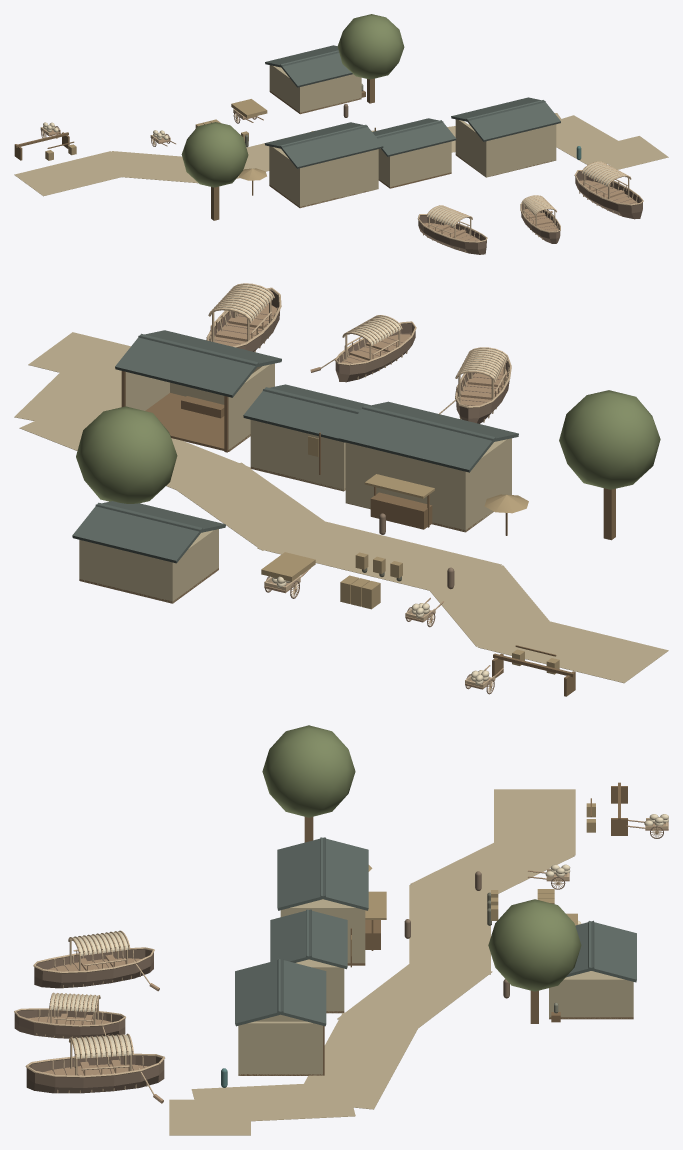
Rendered from d-graybox.glb.
3 views of the same model, one above another, from view 1: azimuth 30°, elevation 25°; view 2: azimuth 150°, elevation 25°; view 3: azimuth 270°, elevation 25° (orthographic). The views are drawn at different scales.
Visible parts, largest first — view 1: S06 crown (×2), s05_house_b/walls, s05_house_b/roof (×2), s04_open_house/roof (×2), ferry_body_wood_light (×3), D road 7, ferry_body_wood_dark (×3), s06_low_house/walls, s04_open_house/rear, s05_house_a/walls, s06_low_house/roof (×2), s05_house_a/roof (×2) (+8 smaller); view 2: S06 crown (×2), s05_house_b/walls, D road 5, s05_house_b/roof (×2), s04_open_house/roof (×2), D road 6, D road 7, D road 4, s06_low_house/walls, s06_low_house/roof (×2), ferry_body_wood_light (×3), s05_house_a/walls (+16 smaller); view 3: S06 crown (×2), ferry_body_wood_dark (×3), D road 5, D road 3, s05_house_b/roof (×2), D road 2, D road 6, s04_open_house/roof (×2), D road 4, D road 7, ferry_body_wood_light (×3), s04_open_house/side (+8 smaller).
Part boxes in pixels (<box>): S06 crown (×2): <box>181,14,404,187</box>; s05_house_b/walls: <box>269,146,378,207</box>; s05_house_b/roof (×2): <box>264,122,383,168</box>; s04_open_house/roof (×2): <box>451,97,560,141</box>; ferry_body_wood_light (×3): <box>417,161,643,252</box>; D road 7: <box>14,151,139,196</box>; ferry_body_wood_dark (×3): <box>418,171,642,254</box>; s06_low_house/walls: <box>269,65,361,113</box>; s04_open_house/rear: <box>486,124,556,177</box>; s05_house_a/walls: <box>378,141,451,187</box>; s06_low_house/roof (×2): <box>265,45,352,87</box>; s05_house_a/roof (×2): <box>372,118,456,156</box>; S06 crown (×2): <box>76,390,660,503</box>; s05_house_b/walls: <box>345,438,511,531</box>; D road 5: <box>257,516,501,596</box>; s05_house_b/roof (×2): <box>338,401,518,472</box>; s04_open_house/roof (×2): <box>115,330,281,397</box>; D road 6: <box>421,565,559,646</box>; D road 7: <box>478,615,668,683</box>; D road 4: <box>169,462,324,550</box>; s06_low_house/walls: <box>79,529,218,603</box>; s06_low_house/roof (×2): <box>72,501,225,563</box>; ferry_body_wood_light (×3): <box>206,283,511,422</box>; s05_house_a/walls: <box>250,420,345,490</box>; S06 crown (×2): <box>262,725,581,991</box>; ferry_body_wood_dark (×3): <box>14,949,164,1093</box>; D road 5: <box>409,885,490,974</box>; D road 3: <box>304,1012,417,1109</box>; s05_house_b/roof (×2): <box>277,837,368,910</box>; D road 2: <box>191,1082,355,1123</box>; D road 6: <box>410,833,574,906</box>; s04_open_house/roof (×2): <box>235,958,326,1026</box>; D road 4: <box>337,955,492,1035</box>; D road 7: <box>494,789,575,855</box>; ferry_body_wood_light (×3): <box>14,930,164,1093</box>; s04_open_house/side: <box>238,1021,322,1075</box>.
Size of the model in its own units: 58 by 11.16 by 46.39.
